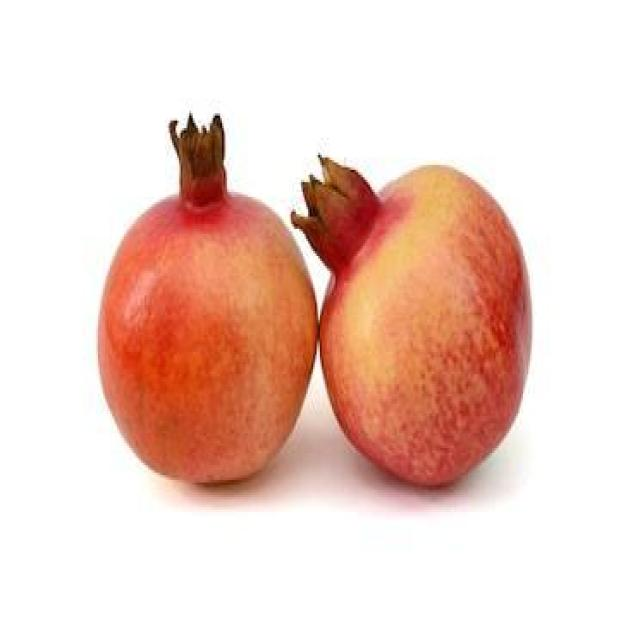Pomegranate: (93, 106, 320, 489), (292, 155, 536, 492)
